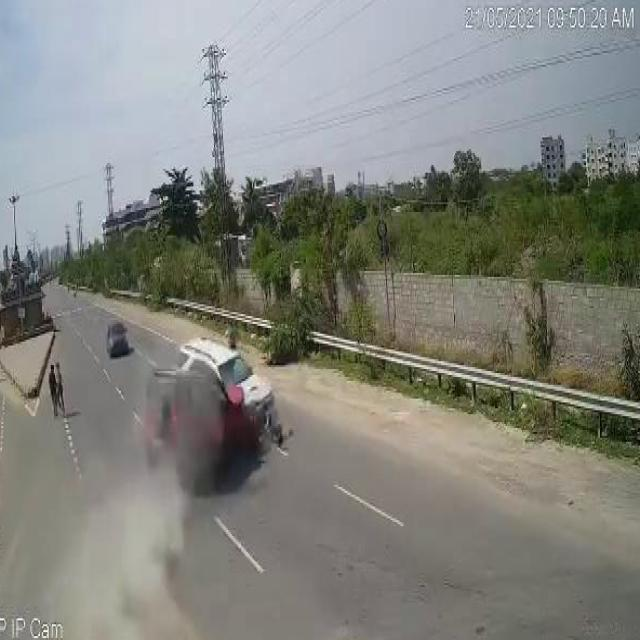accident: (142, 315, 301, 505)
